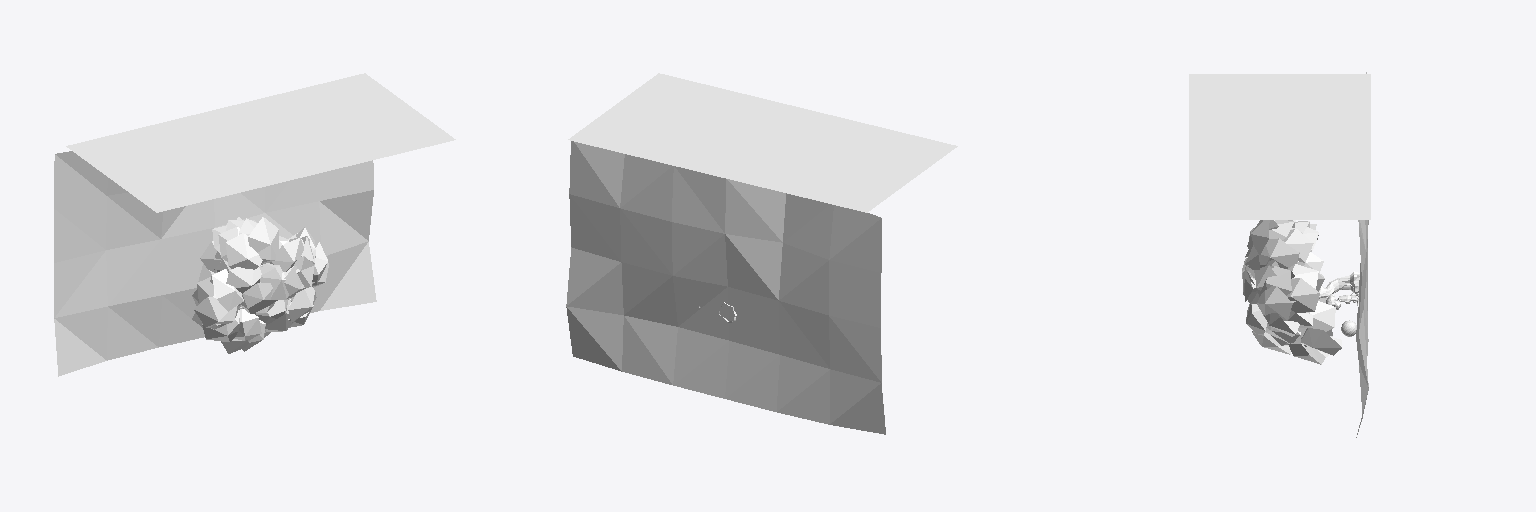
The model's file is treemomo.obj.
The picture shows the model from 3 angles: view 1: azimuth 30°, elevation 25°; view 2: azimuth 150°, elevation 25°; view 3: azimuth 270°, elevation 25°; orthographic projection.
Parts seen in each view (by area): view 1: grass_ground, background, leaf; view 2: grass_ground, background; view 3: background, leaf, grass_ground, tree.
Boxes of the visible parts, x1,y1,x2,y2 form: grass_ground: [54, 151, 376, 376]; background: [66, 73, 455, 212]; leaf: [192, 217, 328, 353]; grass_ground: [566, 141, 885, 434]; background: [568, 73, 957, 212]; background: [1189, 74, 1370, 219]; leaf: [1242, 220, 1341, 364]; grass_ground: [1356, 72, 1368, 437]; tree: [1319, 271, 1359, 298].
Size of the model in its own units: 9.66 by 6.53 by 4.84.